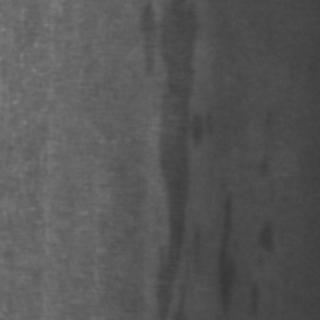inclusion: (127, 1, 203, 316), (206, 183, 246, 309), (252, 215, 276, 261)
